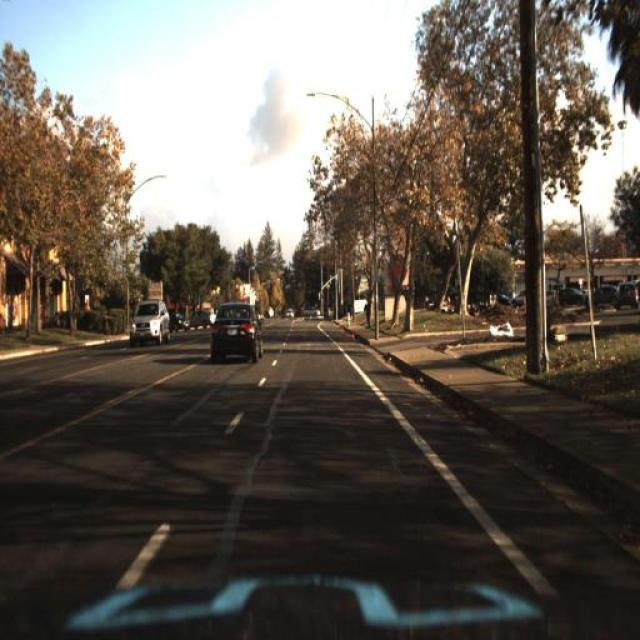car: (210, 299, 264, 367), (128, 300, 168, 344), (586, 282, 620, 308), (155, 311, 189, 335), (556, 286, 586, 310), (186, 310, 218, 330), (513, 286, 525, 306), (303, 307, 321, 318), (323, 308, 335, 318), (287, 310, 293, 318)
trafficLight: (362, 294, 373, 334)
